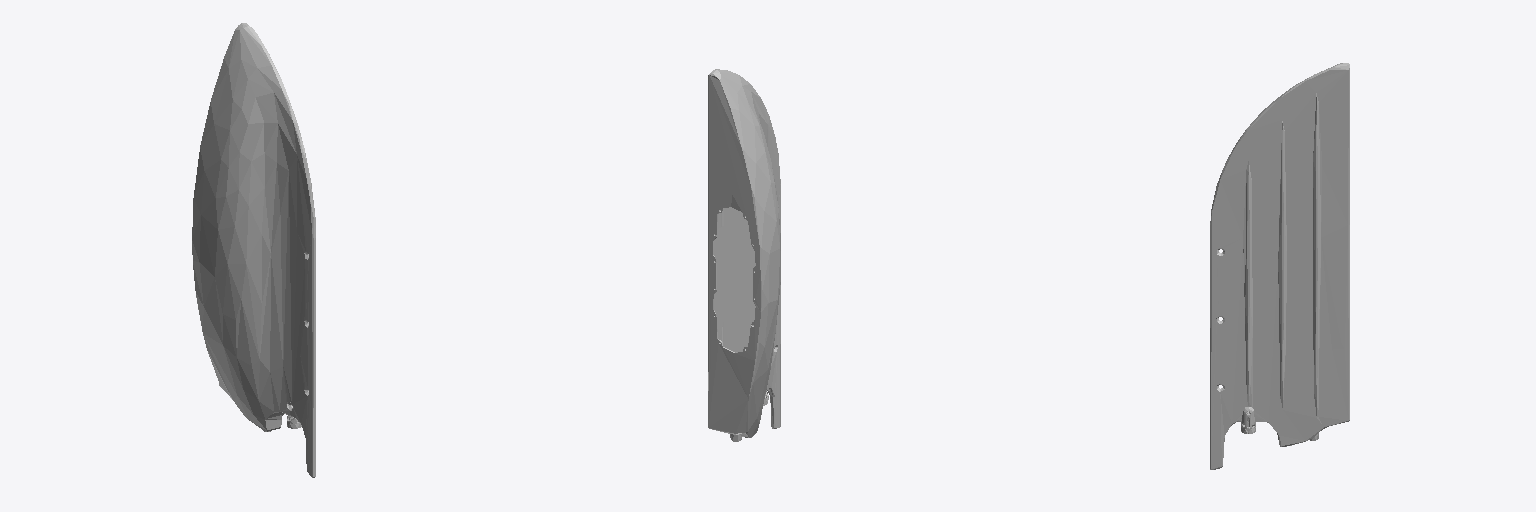
The model's file is rightside_F.obj.
3 views of the same model, side by side, from view 1: azimuth 30°, elevation 25°; view 2: azimuth 150°, elevation 25°; view 3: azimuth 270°, elevation 25° (orthographic).
Parts seen in each view (by area): view 1: Right_side; view 2: Right_side; view 3: Right_side.
Part boxes in pixels (x1,y1,x2,y2): Right_side: (192,23,315,477); Right_side: (708,69,780,441); Right_side: (1210,63,1349,469).
Bounding box in the file's own units: 0.1718 × 1.14 × 0.3583.